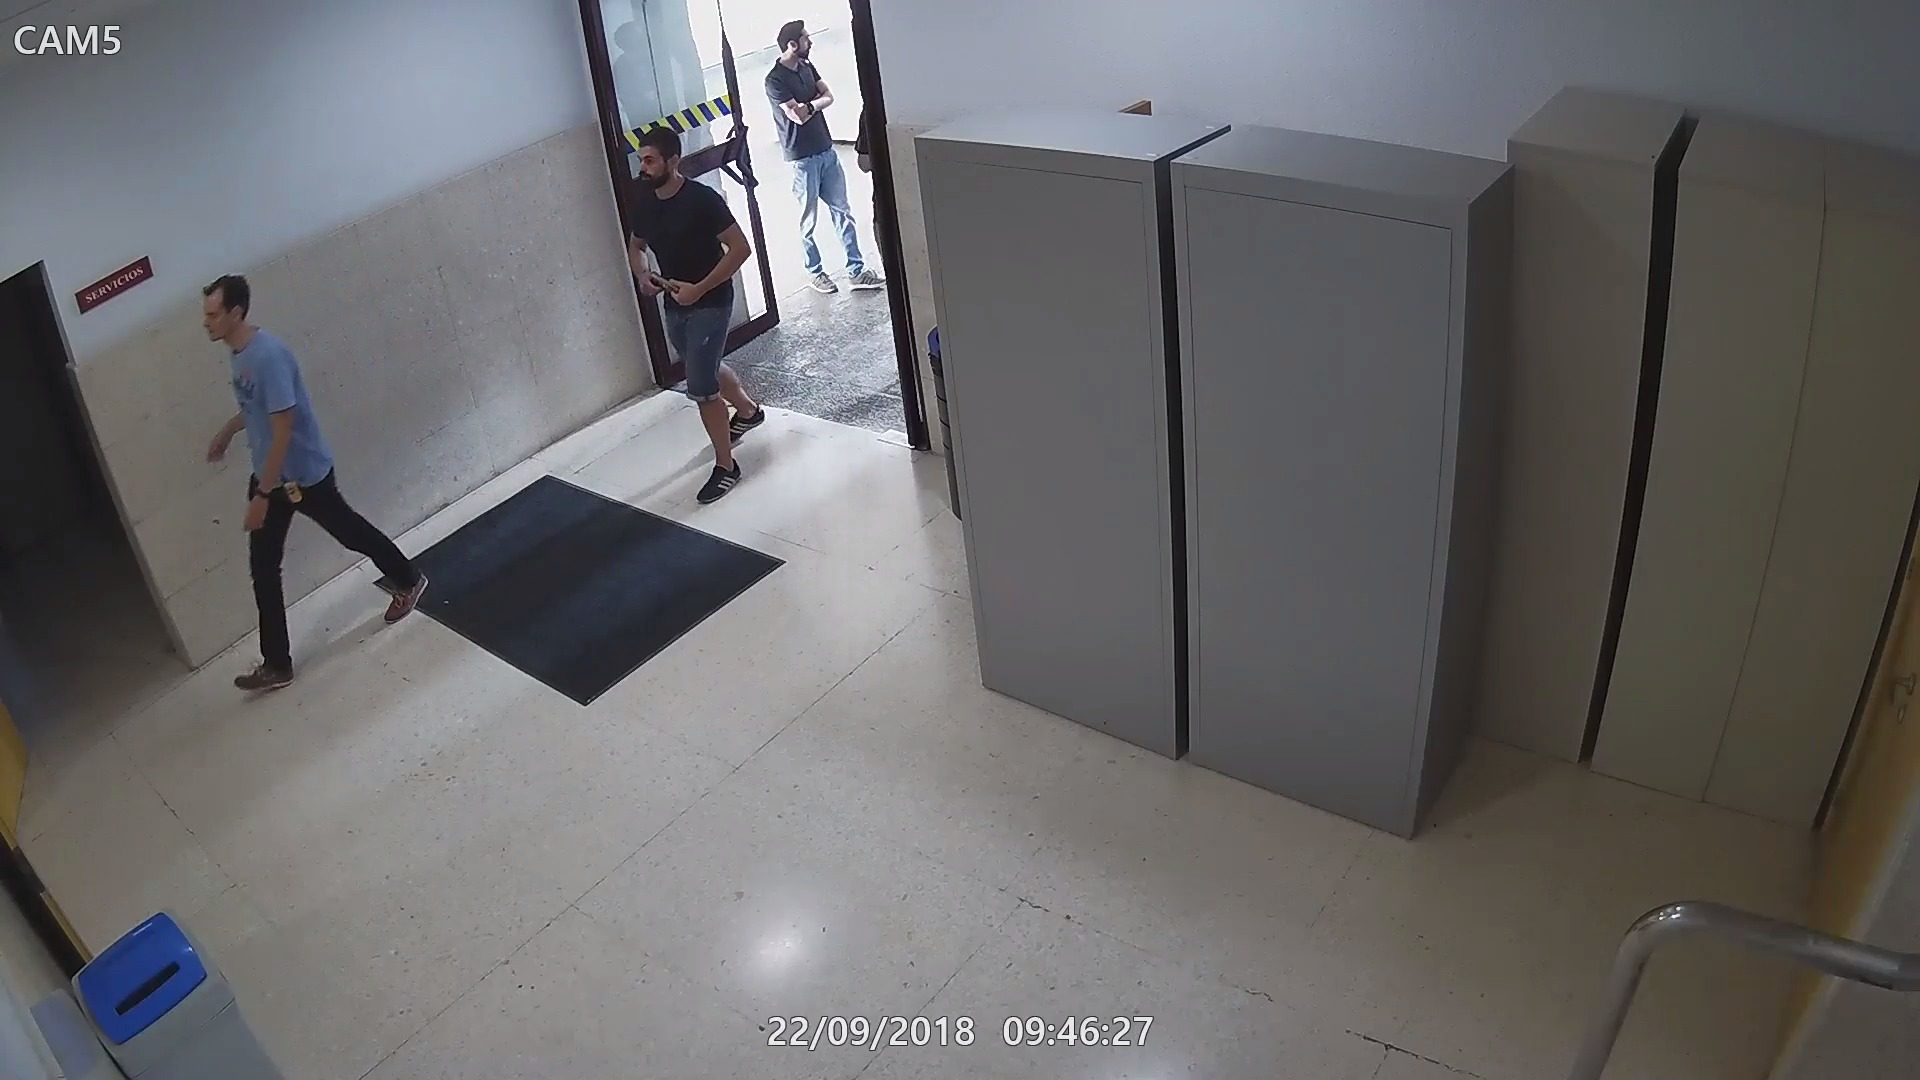pistol: (638, 269, 686, 301)
